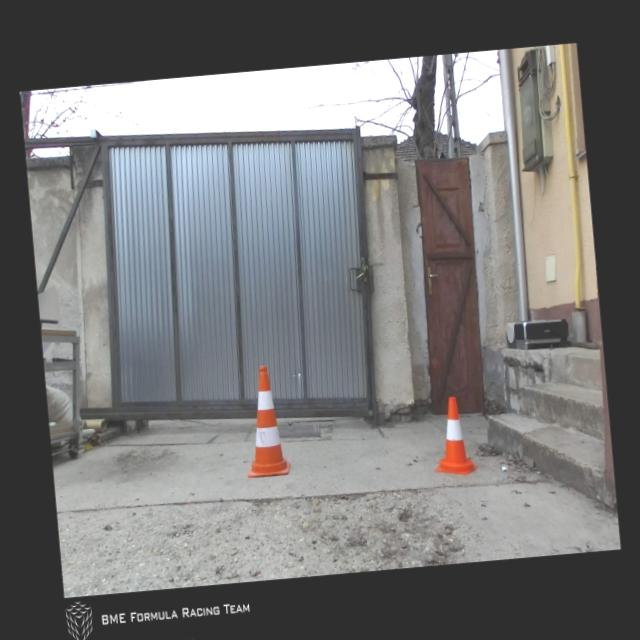large_orange_cone: (238, 364, 290, 478)
orange_cone: (428, 394, 478, 478)
